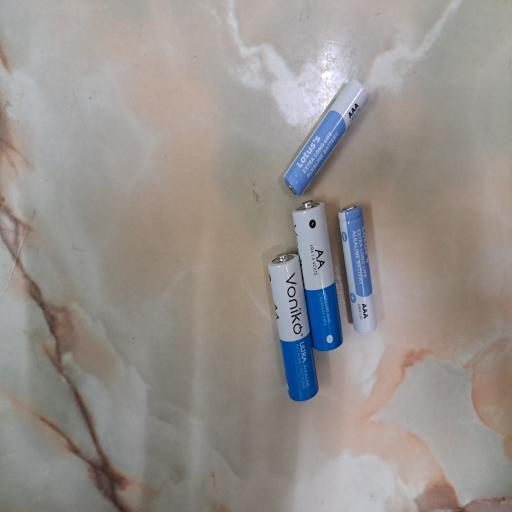battery: (282, 76, 366, 200), (292, 200, 344, 353), (268, 251, 320, 402), (336, 204, 378, 334)
